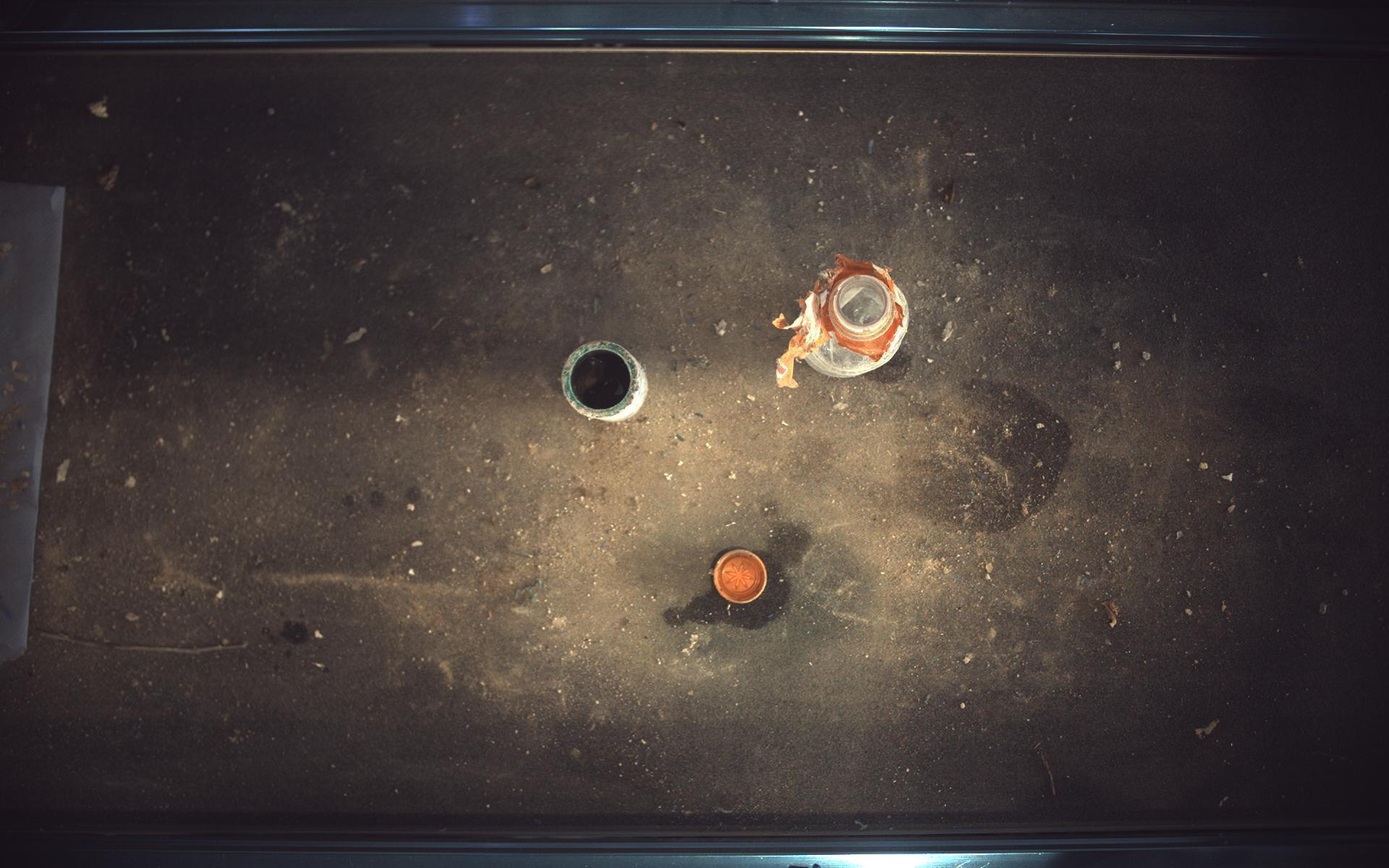general_w: (774, 254, 911, 388), (713, 550, 768, 605)
pipes: (562, 341, 649, 422)
